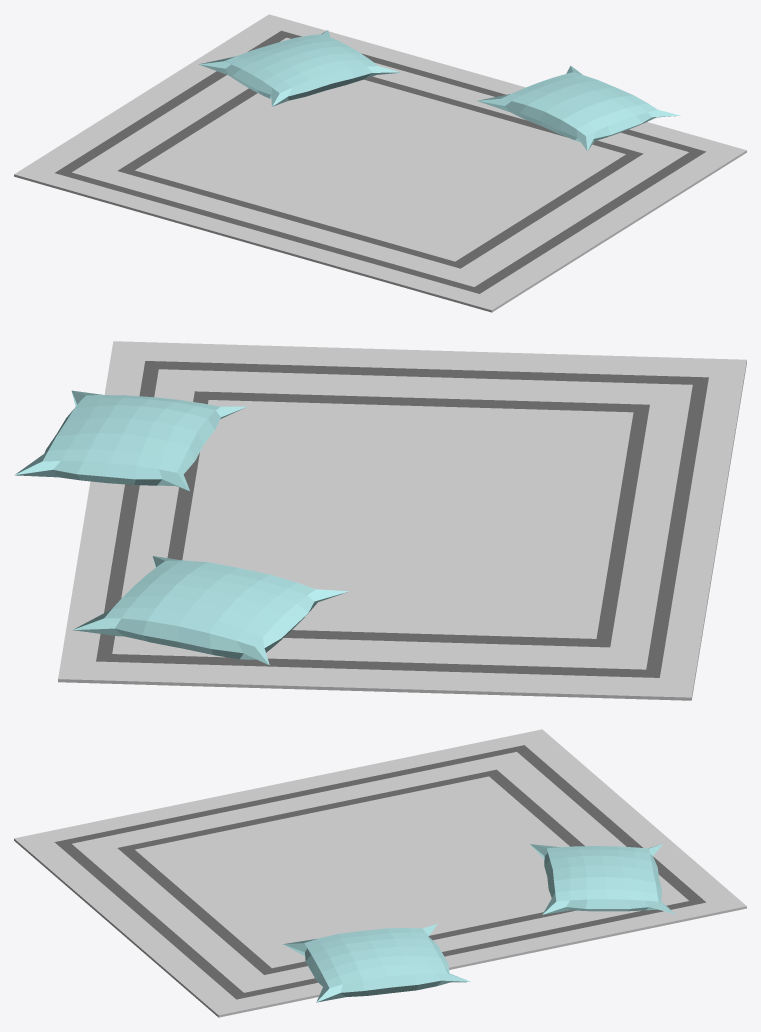
Rendered from carpet.glb.
The picture shows the model from 3 angles, top to bottom: view 1: azimuth 30°, elevation 25°; view 2: azimuth 150°, elevation 25°; view 3: azimuth 270°, elevation 25°; orthographic projection. The views are drawn at different scales.
Parts seen in each view (by area): view 1: Carpet, Cushion, Cushion.001; view 2: Carpet, Cushion.001, Cushion; view 3: Carpet, Cushion, Cushion.001.
Boxes of the visible parts, x1,y1,x2,y2 form: Carpet: (14,14,746,312); Cushion: (477,65,680,150); Cushion.001: (199,30,400,106); Carpet: (58,341,746,700); Cushion.001: (73,556,349,665); Cushion: (14,390,246,491); Carpet: (14,729,746,1017); Cushion: (283,923,470,1002); Cushion.001: (530,844,675,914).
Size of the model in its own units: 4.62 by 0.2004 by 5.
